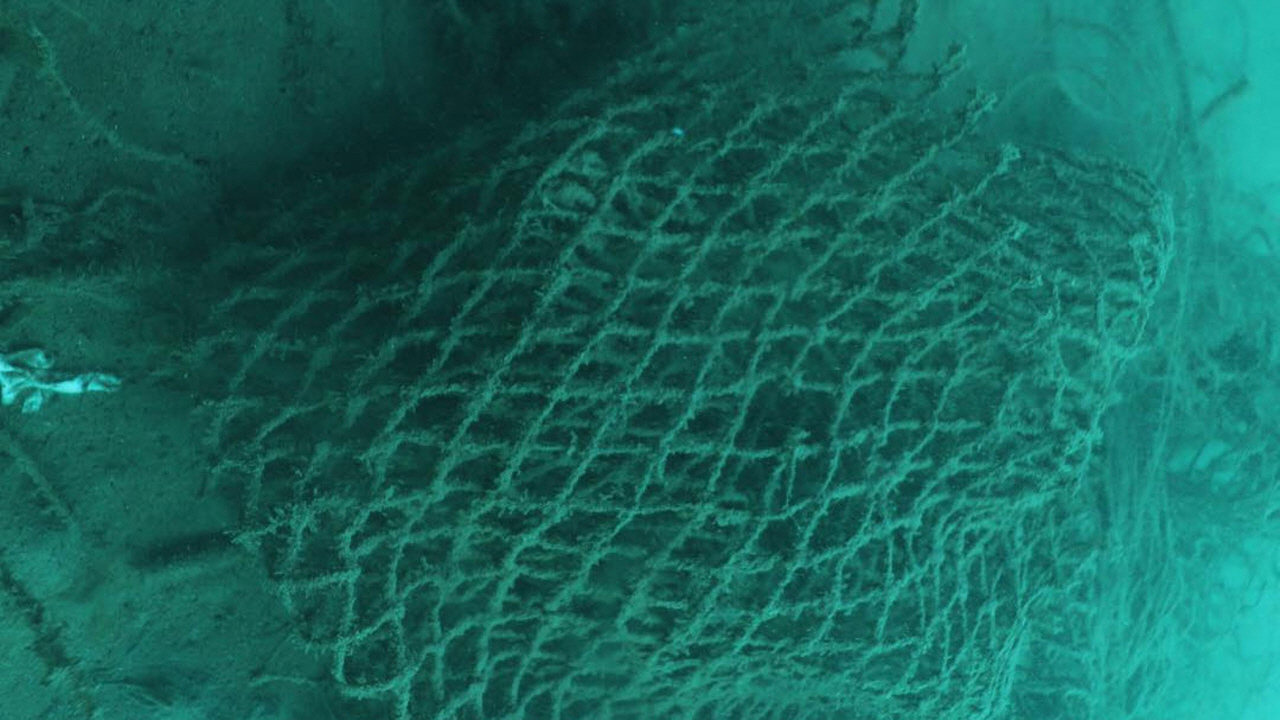fish net: (184, 0, 1176, 720)
